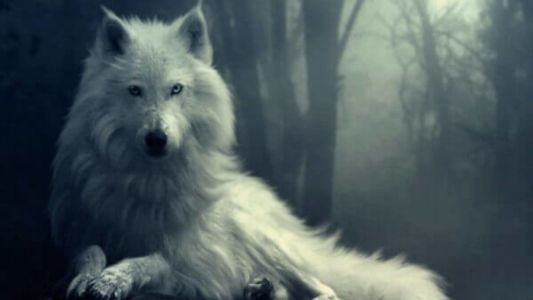wolf: (51, 4, 444, 295)
